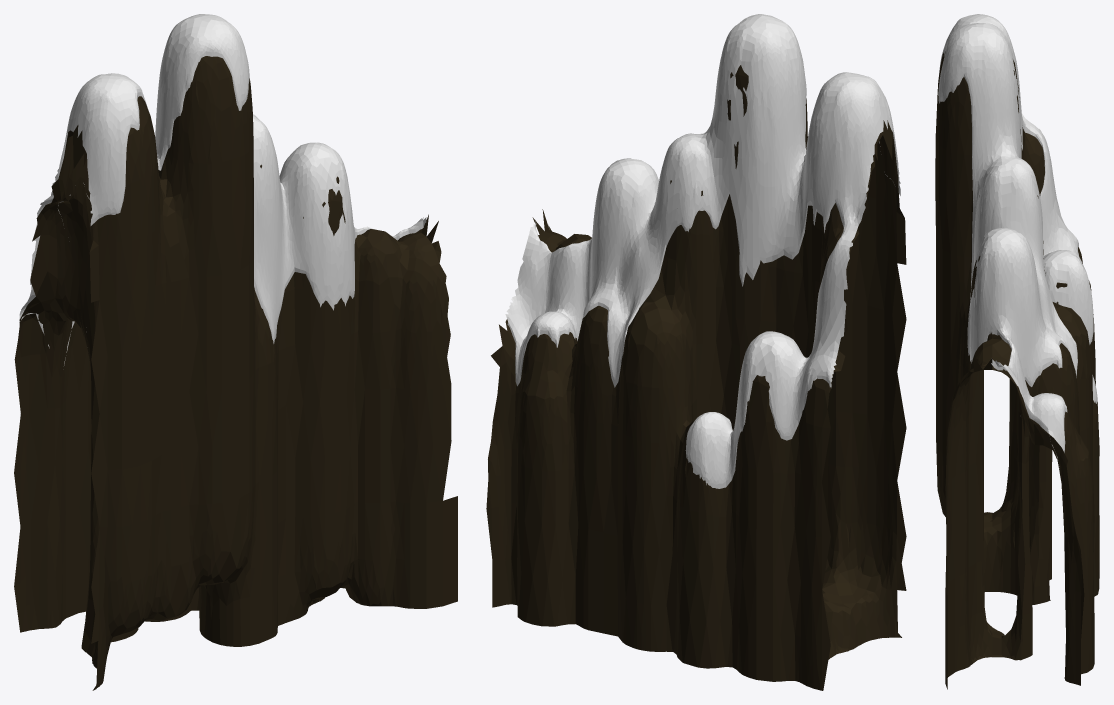
The model's file is Mtn_Wall_E1.fbx.
3 views of the same model, side by side, from view 1: azimuth 30°, elevation 25°; view 2: azimuth 150°, elevation 25°; view 3: azimuth 270°, elevation 25° (orthographic). The views are drawn at different scales.
Visible parts, largest first — view 1: Mtn_Wall_E1; view 2: Mtn_Wall_E1; view 3: Mtn_Wall_E1.
Part boxes in pixels (<box>): Mtn_Wall_E1: <box>14,14,457,690</box>; Mtn_Wall_E1: <box>486,14,906,690</box>; Mtn_Wall_E1: <box>935,14,1099,689</box>.
Size of the model in its own units: 22523 by 36585 by 9688.
